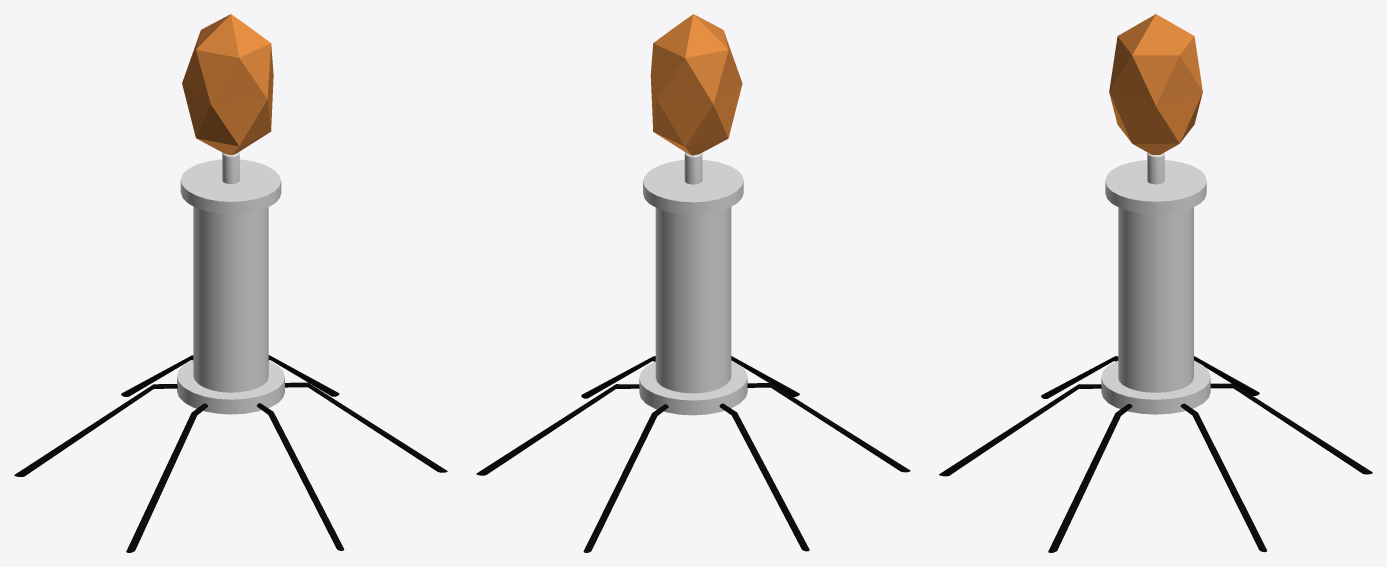
File: HIVShip.fbx
3 views of the same model, side by side, from view 1: azimuth 30°, elevation 25°; view 2: azimuth 150°, elevation 25°; view 3: azimuth 270°, elevation 25° (orthographic).
Parts seen in each view (by area): view 1: Icosphere; view 2: Icosphere; view 3: Icosphere.
Boxes of the visible parts, bbox=[...] form: Icosphere: bbox=[14, 14, 447, 552]; Icosphere: bbox=[476, 14, 910, 552]; Icosphere: bbox=[939, 14, 1372, 552].
Bounding box in the file's own units: 2469 × 3279 × 2810.
